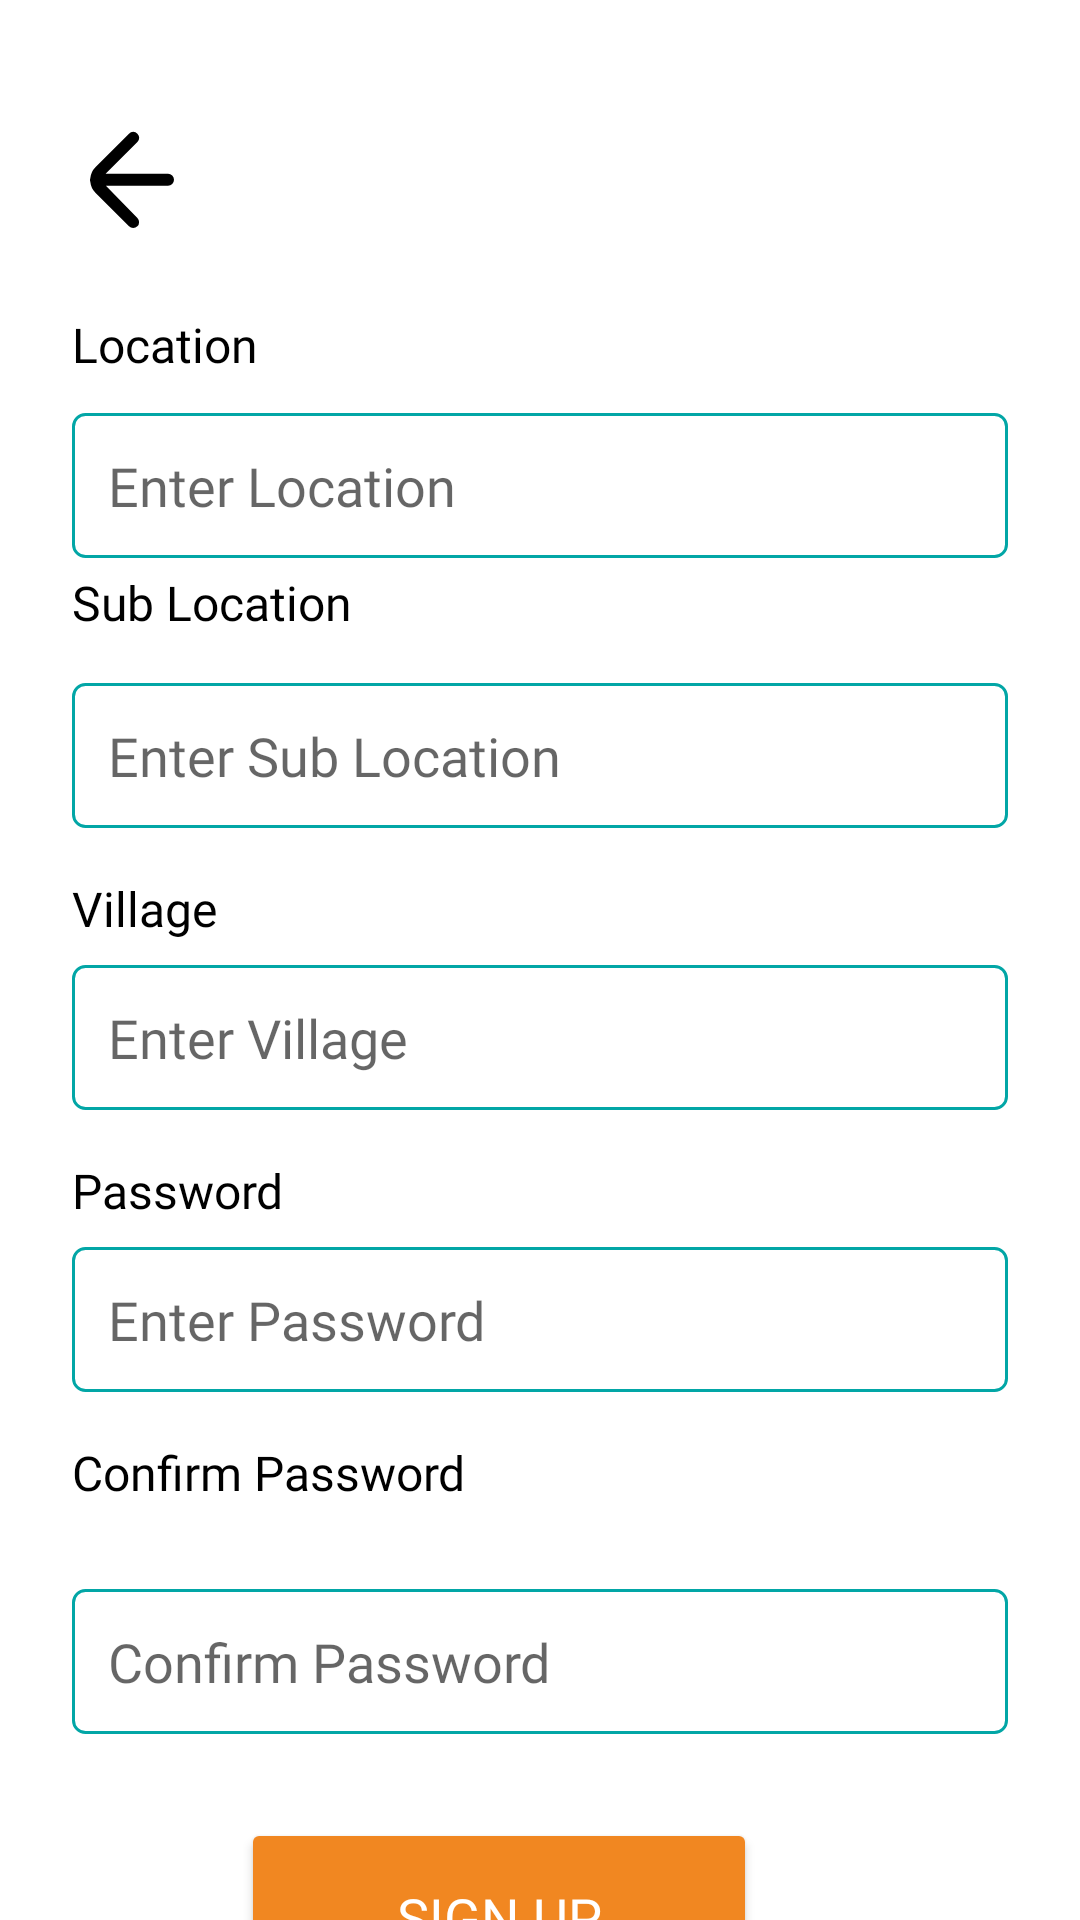

Icons on this 1080px x 1920px Android screen, each with its box as region(x1, y1, x2, y2):
back arrow: region(90, 131, 174, 228)
